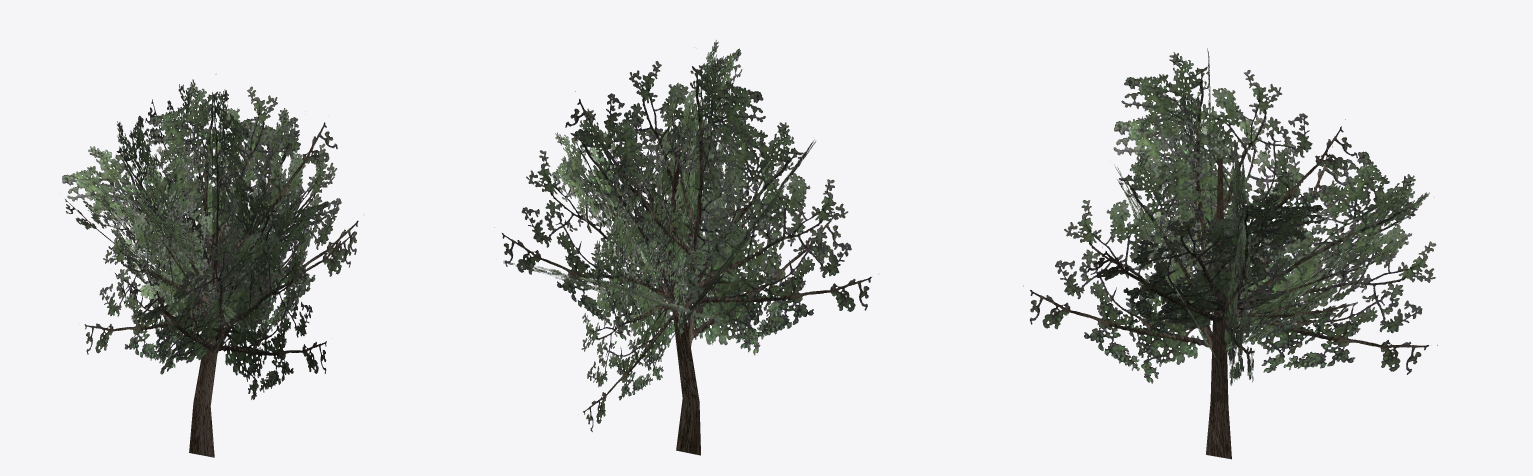
The model's file is mtns_shrb_greenleaf_a1_l1.fbx.
The picture shows the model from 3 angles, left to right: view 1: azimuth 30°, elevation 25°; view 2: azimuth 150°, elevation 25°; view 3: azimuth 270°, elevation 25°; orthographic projection. The views are drawn at different scales.
Parts seen in each view (by area): view 1: mesh_node; view 2: mesh_node; view 3: mesh_node.
Part boxes in pixels (left/top/right/bottom): mesh_node: left=62, top=74, right=358, bottom=457; mesh_node: left=494, top=40, right=878, bottom=455; mesh_node: left=1023, top=48, right=1437, bottom=459.
Bounding box in the file's own units: 2.78 × 2.41 × 2.93.
